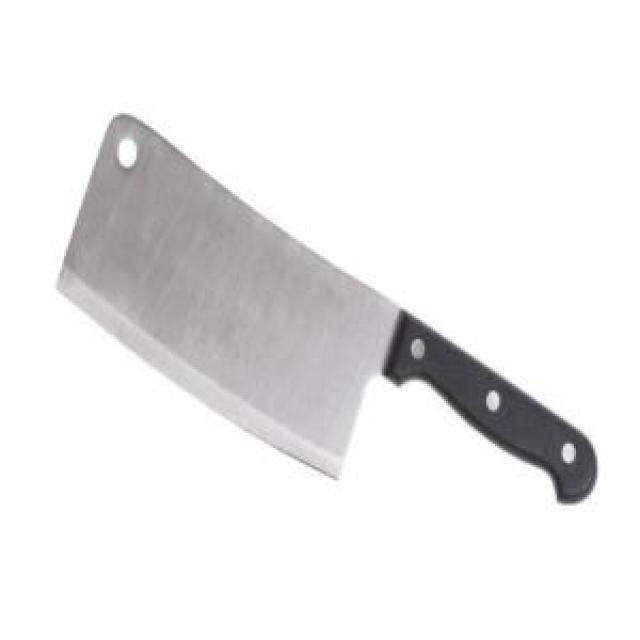knife: (55, 111, 602, 514)
